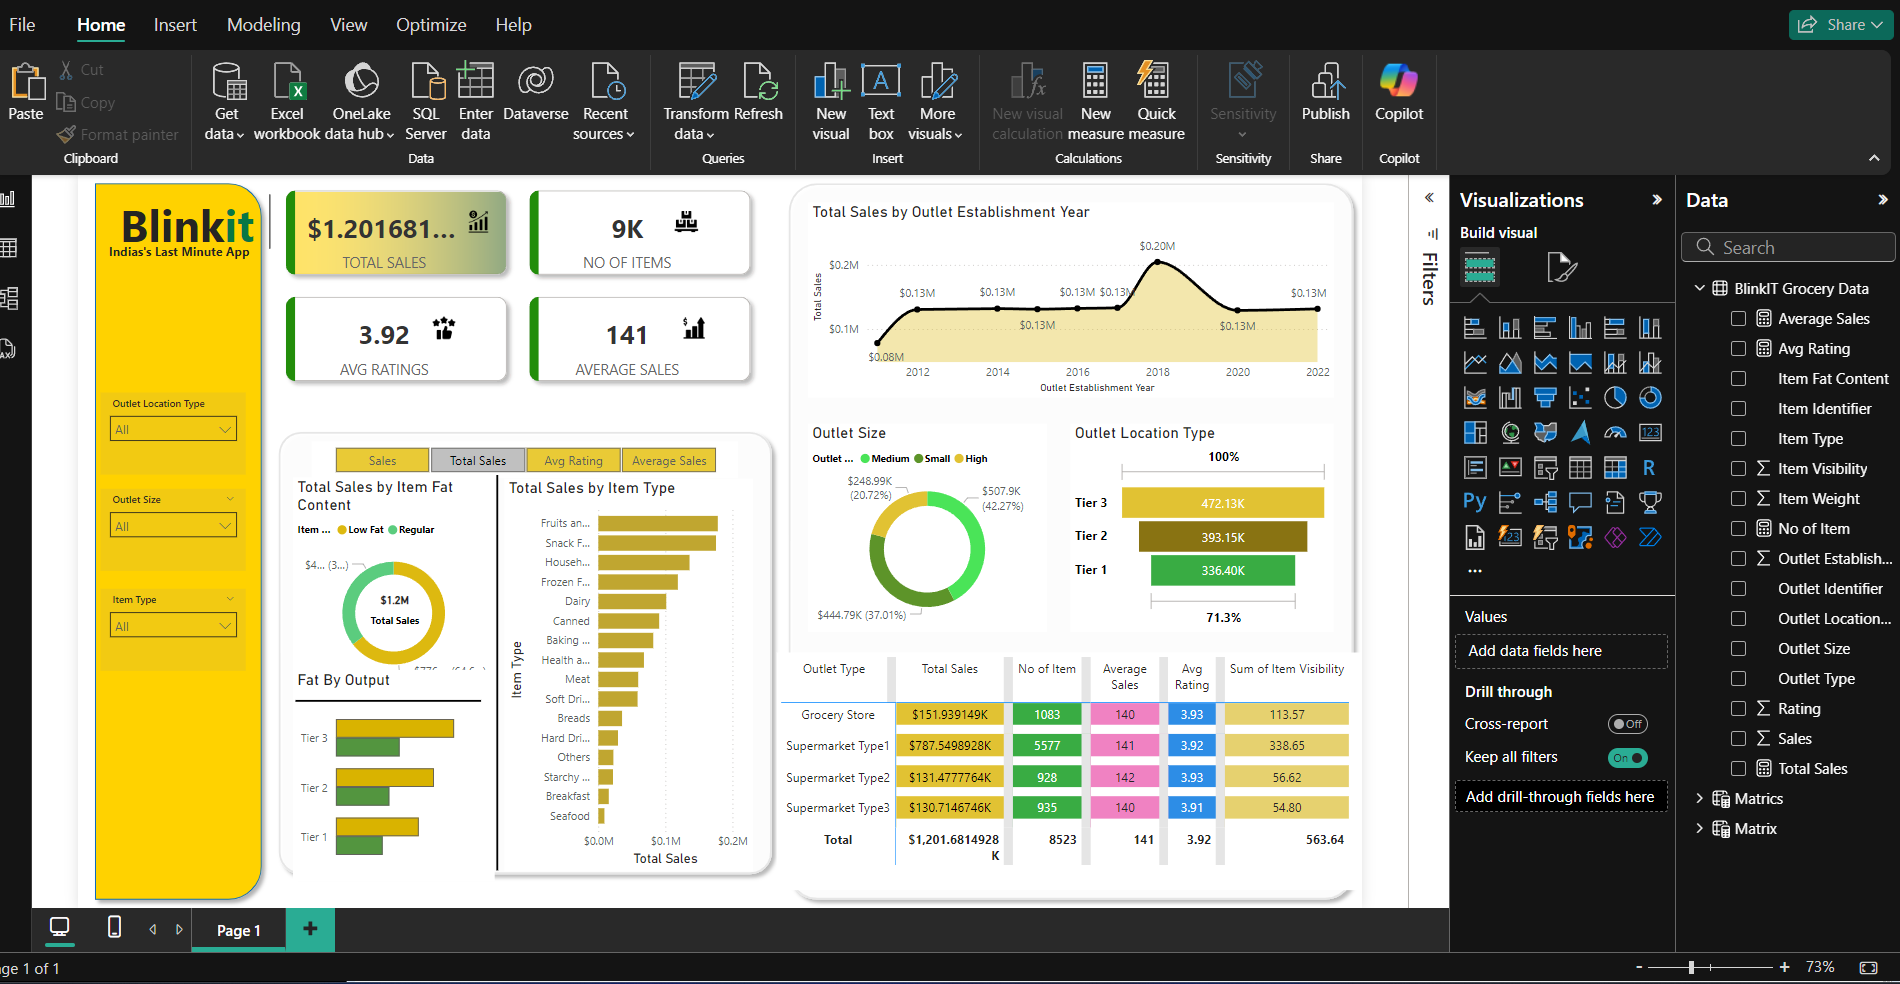

The dashboard page shown, as its layout file describes it:
{"tool":"powerbi","page":{"name":"Page 1","canvas":[1400,800],"ordinal":0},"visuals":[{"type":"shape","box":[9.3,0,199.9,799.5],"z":0},{"type":"textbox","box":[25,16.7,196.7,71.7],"z":1000},{"type":"textbox","box":[28.3,70,165,36.7],"z":2000},{"type":"cardVisual","fields":{"Data":["BlinkIT Grocery Data.Total Sales","BlinkIT Grocery Data.No of Item","BlinkIT Grocery Data.Avg Rating","BlinkIT Grocery Data.Average Sales"]},"box":[210,0,541.5,242.9],"z":3000},{"type":"shape","box":[210,271.8,555.9,500.3],"z":4000},{"type":"donutChart","fields":{"Y":["BlinkIT Grocery Data.Total Sales"],"Category":["BlinkIT Grocery Data.Item Fat Content"]},"box":[235,330,220,230],"z":5000},{"type":"slicer","fields":{"Values":["Matrics.Matrics"]},"box":[255,290,465,40],"z":6000},{"type":"card","fields":{"Values":["BlinkIT Grocery Data.Total Sales"]},"box":[311.6,445.4,66.9,52.8],"z":7000},{"type":"clusteredBarChart","title":"Fat By Output","fields":{"Y":["BlinkIT Grocery Data.Total Sales"],"Category":["BlinkIT Grocery Data.Outlet Location Type"],"Series":["BlinkIT Grocery Data.Item Fat Content"]},"box":[234.2,540.5,220.1,230.6],"z":8000},{"type":"shape","box":[237.7,559.9,202.5,26.4],"z":9000},{"type":"shape","box":[433.1,327.5,47.5,431.3],"z":10000},{"type":"barChart","fields":{"Y":["BlinkIT Grocery Data.Total Sales"],"Category":["BlinkIT Grocery Data.Item Type"]},"box":[464.8,331,271.1,427.8],"z":11000},{"type":"shape","box":[765.9,0,633.8,799.3],"z":12000},{"type":"lineChart","fields":{"Category":["BlinkIT Grocery Data.Outlet Establishment Year"],"Y":["BlinkIT Grocery Data.Total Sales"]},"box":[795.8,29.9,574,213],"z":13000},{"type":"donutChart","title":"Outlet Size","fields":{"Y":["BlinkIT Grocery Data.Total Sales"],"Category":["BlinkIT Grocery Data.Outlet Size"]},"box":[795.8,271.1,260.6,227.1],"z":14000},{"type":"funnel","title":"Outlet Location Type","fields":{"Y":["Sum(BlinkIT Grocery Data.Sales)"],"Category":["BlinkIT Grocery Data.Outlet Location Type"]},"box":[1082.8,271.1,287,227.1],"z":15000},{"type":"pivotTable","fields":{"Values":["BlinkIT Grocery Data.Total Sales","BlinkIT Grocery Data.No of Item","BlinkIT Grocery Data.Average Sales","BlinkIT Grocery Data.Avg Rating","Sum(BlinkIT Grocery Data.Item Visibility)"],"Rows":["BlinkIT Grocery Data.Outlet Type"]},"box":[762.3,521.1,637.3,258.8],"z":16000},{"type":"slicer","fields":{"Values":["BlinkIT Grocery Data.Outlet Location Type"]},"box":[24.6,237.7,158.5,89.8],"z":17000},{"type":"slicer","fields":{"Values":["BlinkIT Grocery Data.Outlet Size"]},"box":[24.6,341.6,158.5,89.8],"z":17001},{"type":"slicer","fields":{"Values":["BlinkIT Grocery Data.Item Type"]},"box":[24.6,450.7,158.5,89.8],"z":17002}]}

Visuals, with their boxes on the page's 1400x800 design canvas (x1, y1, x2, y2). These are canvas units, not pixel positions in the 1900x984 screenshot, which may show the page scaled, cropped or inside an application window:
shape: Rect(9, 0, 209, 800)
textbox: Rect(25, 17, 222, 88)
textbox: Rect(28, 70, 193, 107)
cardVisual - BlinkIT Grocery Data.Total Sales x BlinkIT Grocery Data.No of Item: Rect(210, 0, 752, 243)
shape: Rect(210, 272, 766, 772)
donutChart - BlinkIT Grocery Data.Total Sales x BlinkIT Grocery Data.Item Fat Content: Rect(235, 330, 455, 560)
slicer - Matrics.Matrics: Rect(255, 290, 720, 330)
card - BlinkIT Grocery Data.Total Sales: Rect(312, 445, 378, 498)
"Fat By Output" clusteredBarChart: Rect(234, 540, 454, 771)
shape: Rect(238, 560, 440, 586)
shape: Rect(433, 328, 481, 759)
barChart - BlinkIT Grocery Data.Total Sales x BlinkIT Grocery Data.Item Type: Rect(465, 331, 736, 759)
shape: Rect(766, 0, 1400, 799)
lineChart - BlinkIT Grocery Data.Outlet Establishment Year x BlinkIT Grocery Data.Total Sales: Rect(796, 30, 1370, 243)
"Outlet Size" donutChart: Rect(796, 271, 1056, 498)
"Outlet Location Type" funnel: Rect(1083, 271, 1370, 498)
pivotTable - BlinkIT Grocery Data.Total Sales x BlinkIT Grocery Data.No of Item: Rect(762, 521, 1400, 780)
slicer - BlinkIT Grocery Data.Outlet Location Type: Rect(25, 238, 183, 328)
slicer - BlinkIT Grocery Data.Outlet Size: Rect(25, 342, 183, 431)
slicer - BlinkIT Grocery Data.Item Type: Rect(25, 451, 183, 540)
